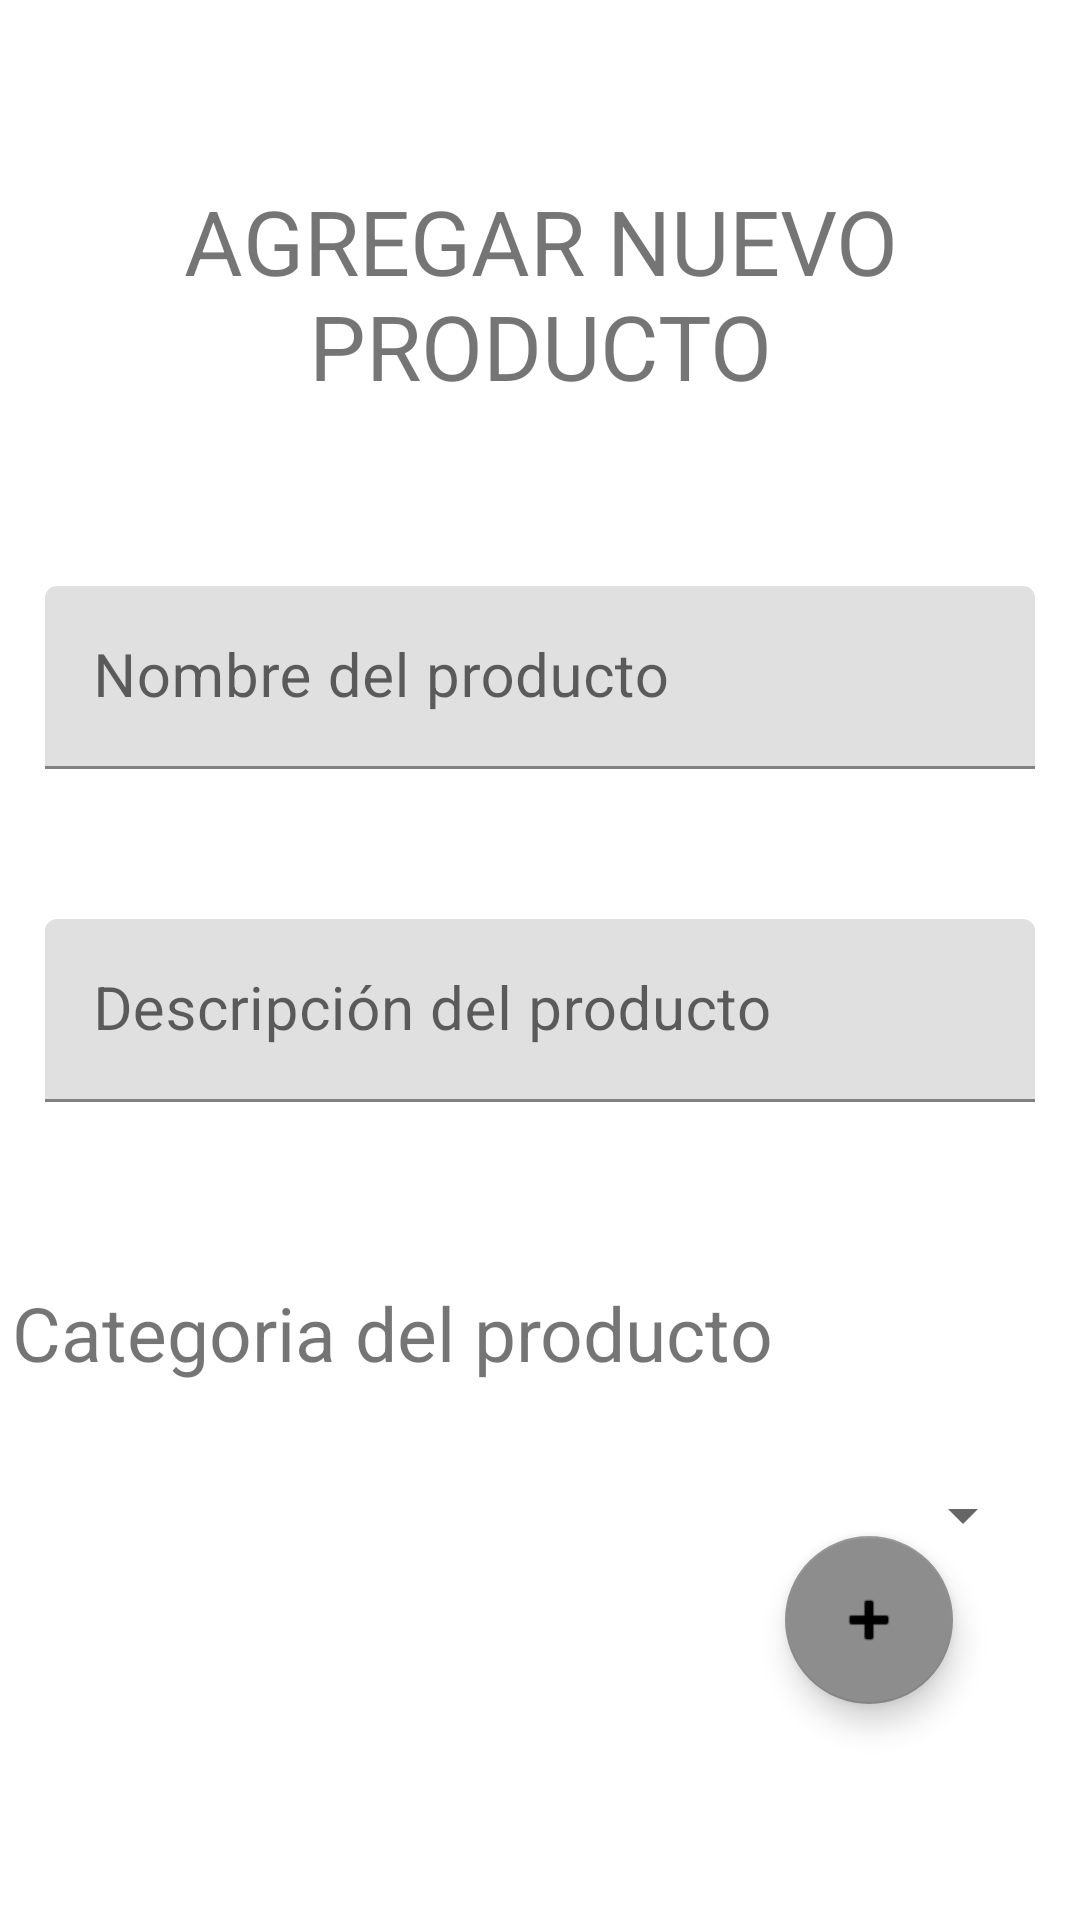

Where icons sit on this 1080px x 1920px app screen, as Rect(x1, y1, x2, y2):
Agregar: Rect(785, 1536, 953, 1704)
